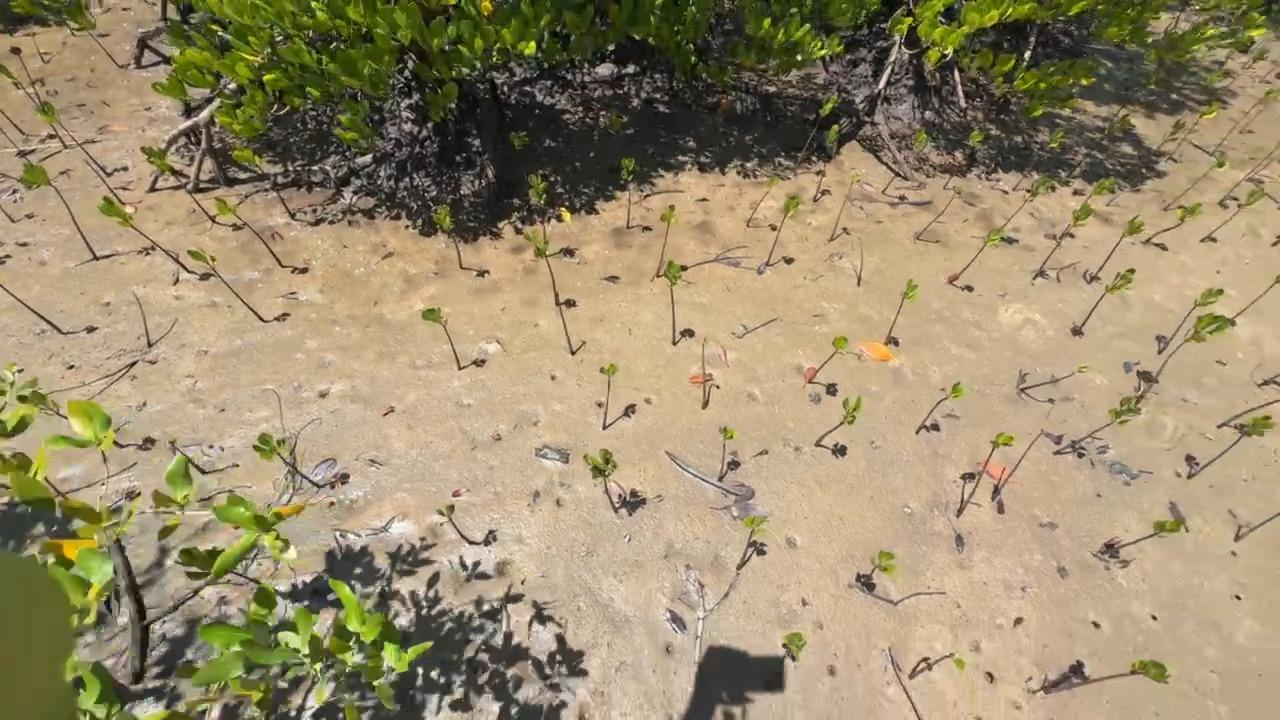Tree: (1134, 312, 1238, 406), (13, 376, 125, 450), (21, 163, 99, 261), (100, 195, 191, 274), (139, 145, 218, 223), (34, 100, 112, 178), (187, 247, 267, 323), (1186, 414, 1278, 480), (0, 64, 68, 150), (990, 428, 1068, 502), (1052, 396, 1144, 457), (955, 432, 1016, 519), (213, 195, 284, 269), (1031, 202, 1095, 281), (1208, 87, 1279, 157), (1065, 112, 1137, 178), (1157, 287, 1225, 356), (1043, 659, 1172, 695), (1215, 139, 1280, 206), (793, 91, 843, 174), (1088, 214, 1146, 285), (252, 432, 322, 490), (1058, 175, 1116, 240), (1199, 187, 1266, 243), (1100, 516, 1188, 557), (1164, 101, 1222, 163), (1079, 267, 1136, 330), (1163, 156, 1228, 211), (881, 127, 931, 195), (947, 229, 1007, 285), (1013, 127, 1065, 191), (0, 284, 65, 335), (999, 174, 1056, 230), (523, 229, 561, 306), (914, 381, 967, 435), (765, 193, 803, 267), (916, 185, 964, 240), (942, 129, 985, 190), (422, 307, 462, 371), (814, 395, 862, 447), (882, 279, 919, 346), (1222, 39, 1270, 88), (584, 448, 619, 514), (830, 168, 861, 241), (430, 203, 463, 270), (1232, 274, 1280, 320), (806, 336, 849, 384), (1238, 87, 1280, 136), (1145, 203, 1196, 243), (1019, 364, 1089, 393), (83, 159, 126, 206), (1216, 399, 1280, 430), (8, 46, 42, 104), (736, 513, 767, 570), (747, 175, 780, 228), (908, 650, 966, 680), (812, 131, 836, 202), (1228, 512, 1280, 544), (167, 436, 208, 476), (664, 260, 683, 346), (655, 204, 677, 278), (528, 174, 550, 244), (86, 30, 121, 71), (436, 504, 471, 545), (554, 291, 575, 356), (861, 550, 898, 586), (0, 127, 33, 167), (599, 363, 618, 431), (1150, 120, 1186, 155), (619, 157, 635, 230), (776, 631, 808, 667), (132, 292, 152, 348), (716, 426, 735, 482), (1245, 152, 1280, 182), (0, 108, 25, 136), (702, 336, 710, 410), (1257, 58, 1280, 83), (31, 32, 45, 65), (857, 231, 865, 287), (1256, 373, 1280, 387), (0, 205, 17, 223), (1111, 104, 1126, 121), (0, 173, 21, 183), (65, 21, 75, 38), (3, 23, 13, 37)
